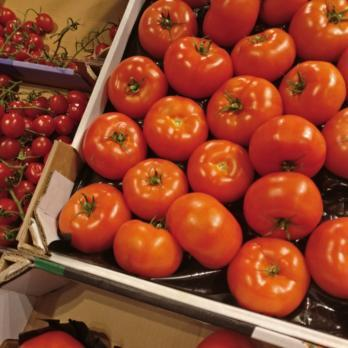Tomato: (139, 0, 348, 279), (65, 113, 149, 263)
